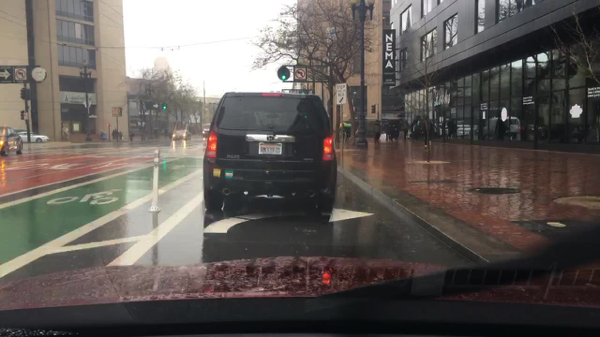car: (202, 90, 338, 223), (0, 126, 23, 156), (17, 131, 51, 143), (172, 129, 191, 141), (200, 122, 210, 137)
person: (422, 119, 433, 149), (371, 120, 383, 140), (401, 118, 410, 140), (447, 118, 454, 140), (390, 117, 396, 142), (415, 116, 421, 140), (385, 118, 390, 140), (339, 120, 345, 137), (397, 118, 401, 141), (413, 116, 417, 136), (128, 130, 135, 141), (111, 128, 116, 141), (120, 130, 122, 140), (117, 127, 118, 141)
traffic light: (280, 68, 286, 81), (21, 110, 26, 121), (27, 88, 31, 101), (20, 88, 24, 100), (162, 104, 166, 115), (370, 103, 374, 114), (300, 89, 307, 94), (106, 122, 111, 127)
traffic sign: (333, 84, 345, 105), (0, 67, 13, 83), (15, 67, 26, 81), (293, 67, 304, 80), (111, 108, 122, 118), (145, 102, 158, 110)
